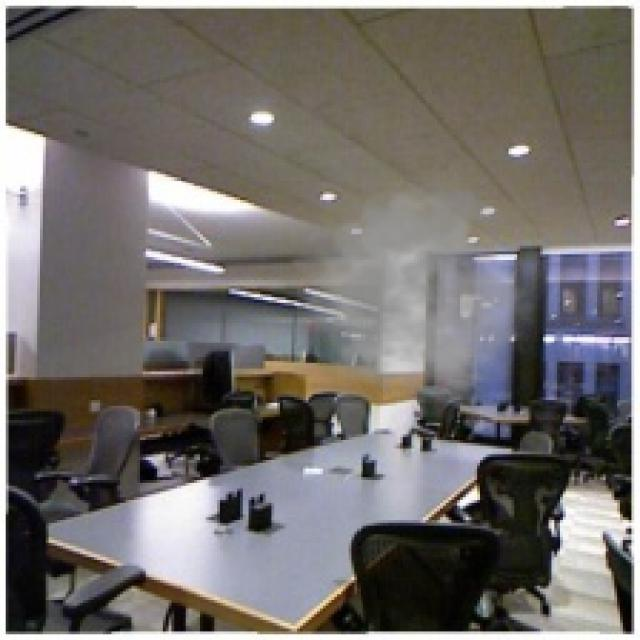smoke: (280, 168, 537, 403)
